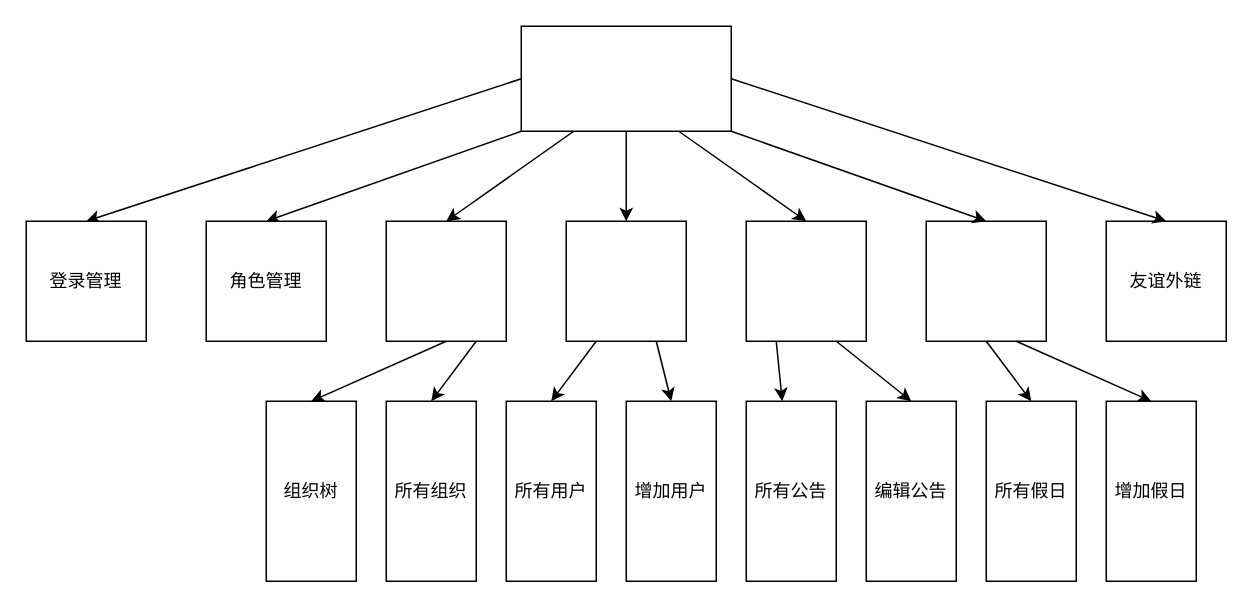
Image size: 1253x608. Some labels were removed from this diagram. Here are the shapes that lost their labels. From the top down, the centre of each, then its label:
At point 625,78: "企业全域数字化管理系统".
At point 445,280: "组织管理".
At point 625,280: "用户管理".
At point 805,280: "公告管理".
At point 985,280: "假日管理".
